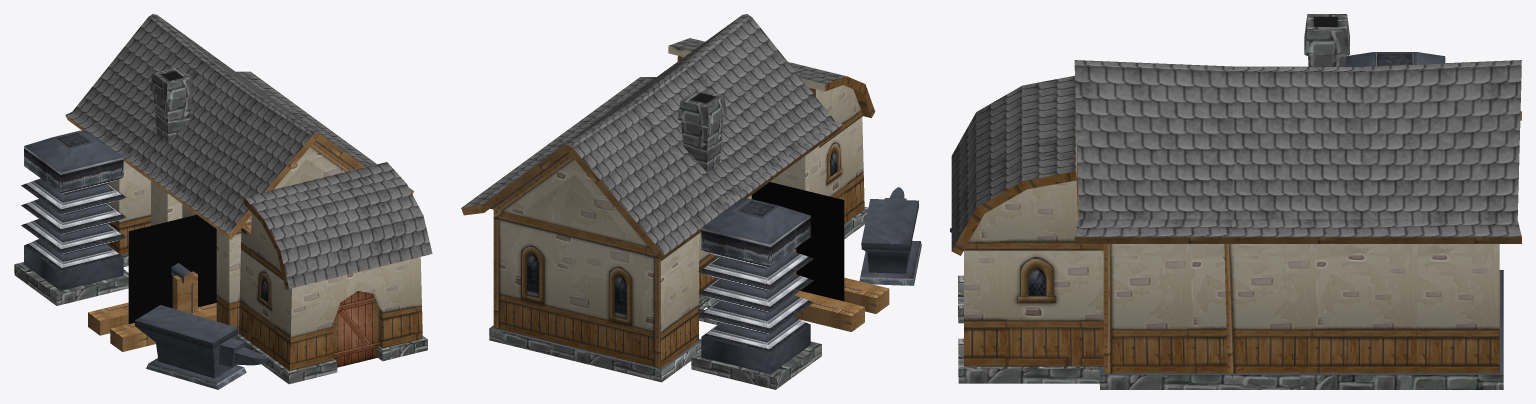
The model's file is h_blacksmith.FBX.
3 views of the same model, side by side, from view 1: azimuth 30°, elevation 25°; view 2: azimuth 150°, elevation 25°; view 3: azimuth 270°, elevation 25° (orthographic). The views are drawn at different scales.
Visible parts, largest first — view 1: h_blacksmith; view 2: h_blacksmith; view 3: h_blacksmith.
Part boxes in pixels (x1=…): h_blacksmith: x1=14, y1=14, x2=432, y2=389; h_blacksmith: x1=461, y1=14, x2=921, y2=389; h_blacksmith: x1=950, y1=14, x2=1521, y2=389.
Bounding box in the file's own units: 151 × 113 × 208.
